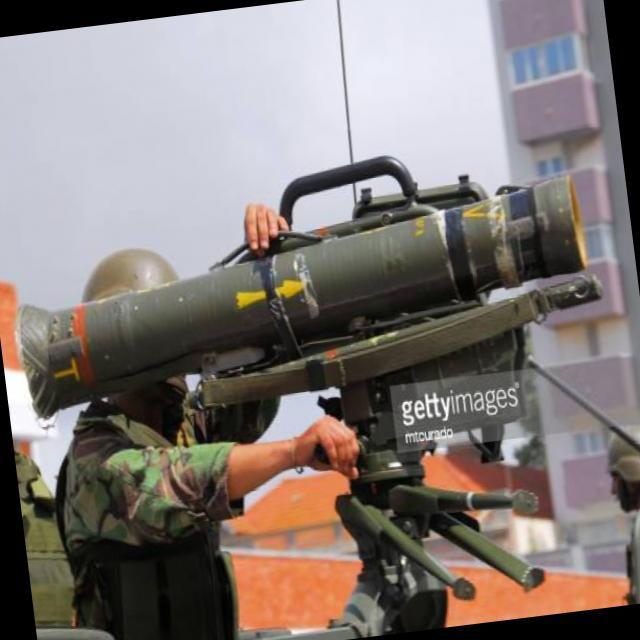rocket: (6, 172, 606, 424)
